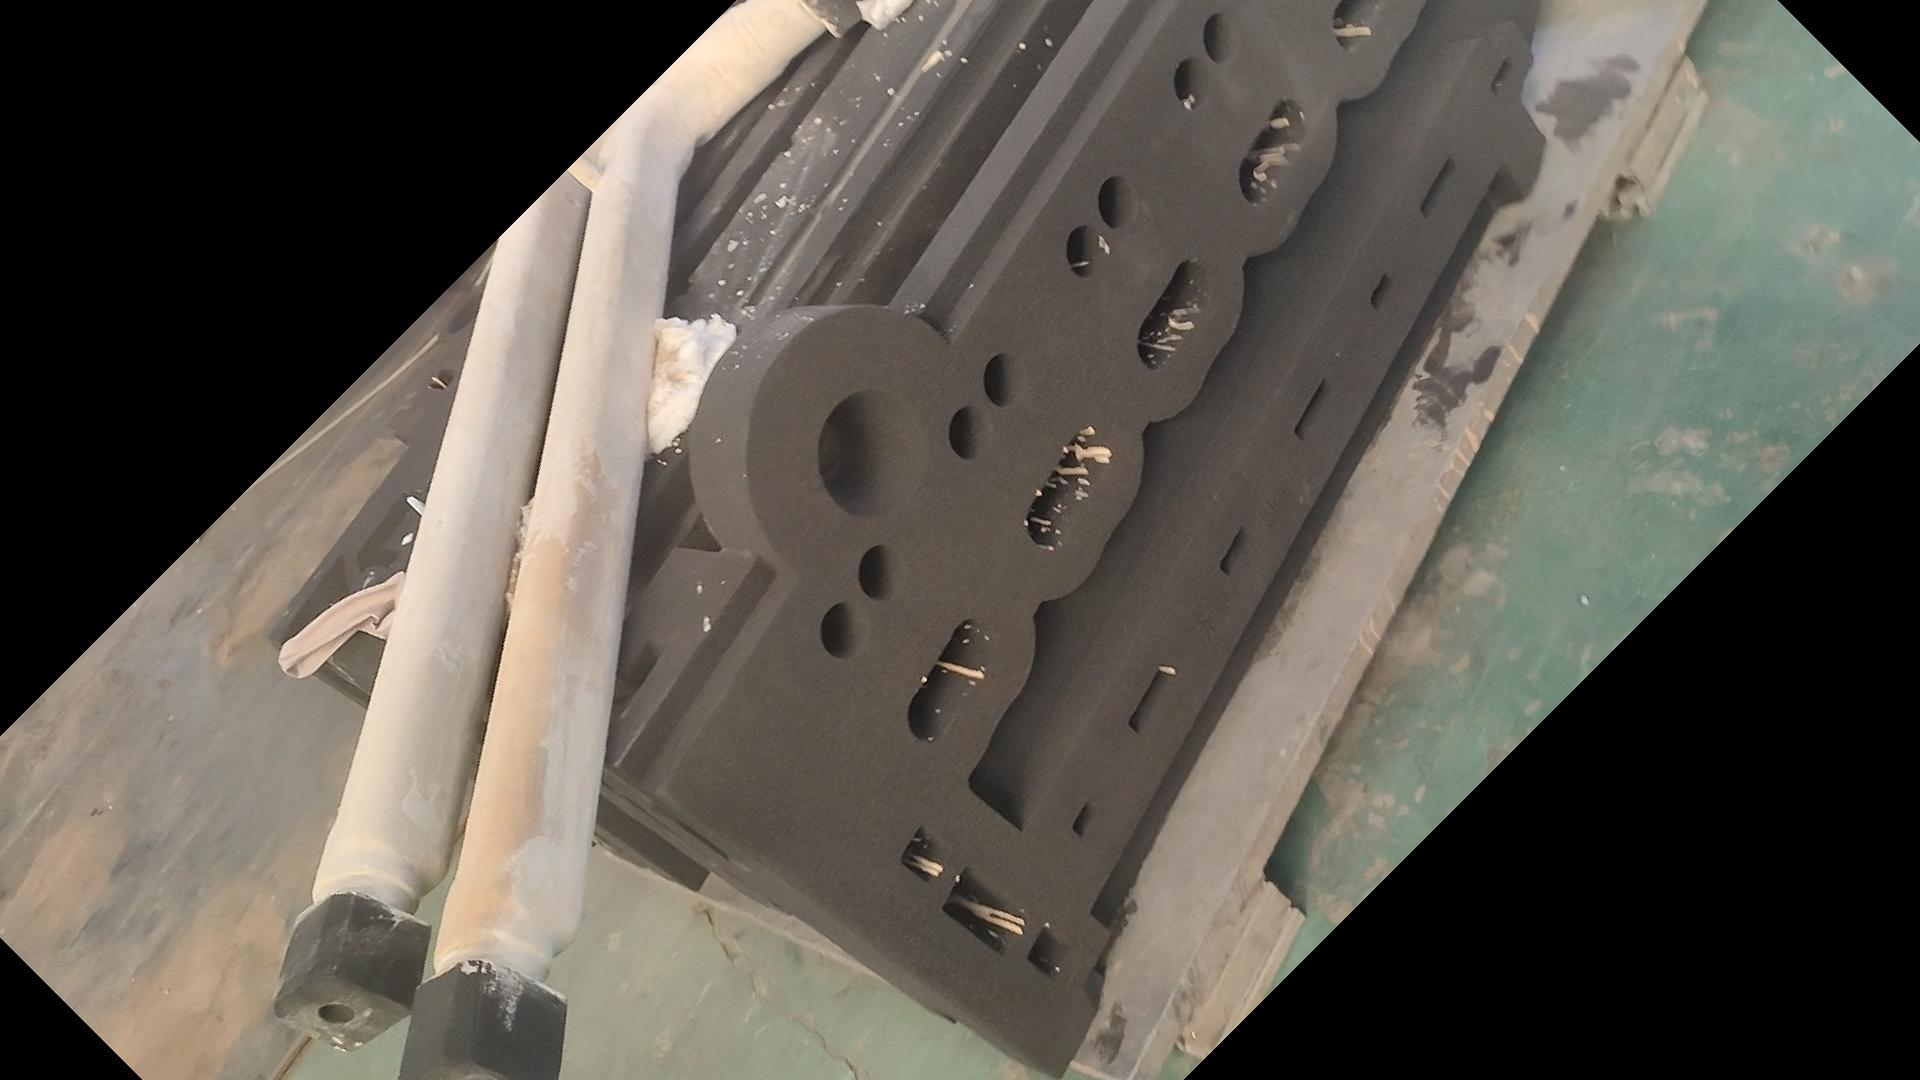pouring hole: (816, 389, 930, 524), (440, 289, 484, 330)
